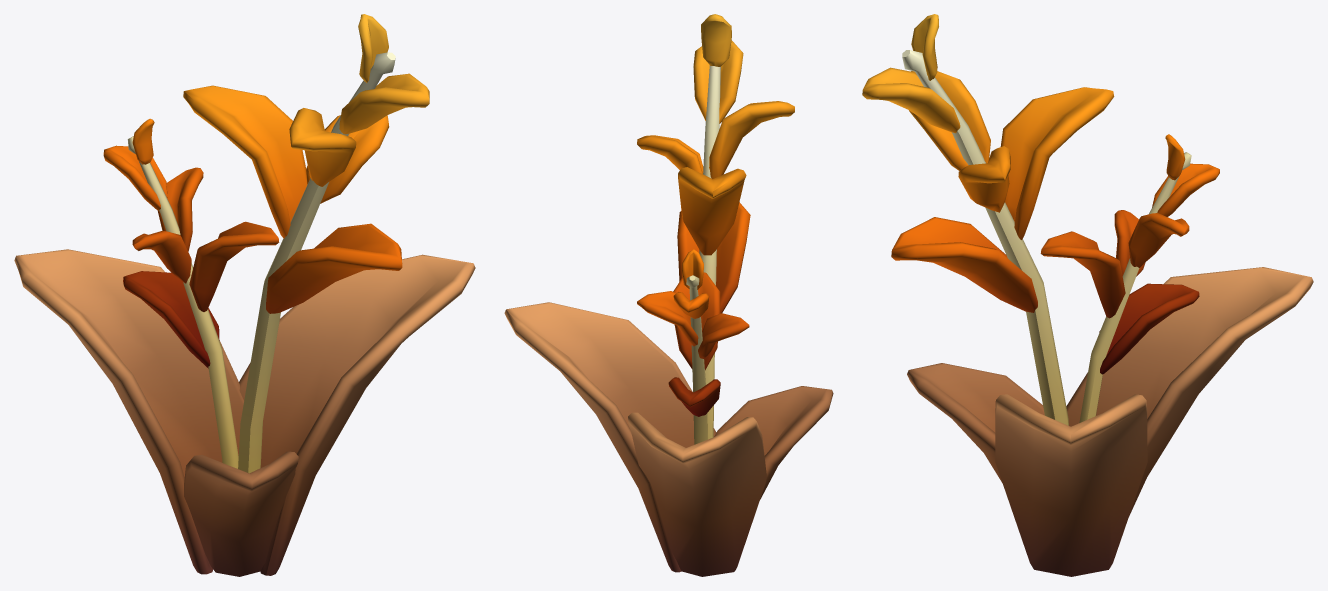
File: Plant41.fbx
3 renders of one model, left to right at view 1: azimuth 30°, elevation 25°; view 2: azimuth 150°, elevation 25°; view 3: azimuth 270°, elevation 25°, orthographic. The views are drawn at different scales.
Visible parts, largest first — view 1: Plant.055_Material.001_0; view 2: Plant.055_Material.001_0; view 3: Plant.055_Material.001_0.
Boxes of the visible parts, box(x1,y1,x2,y2) form: Plant.055_Material.001_0: box(14, 14, 475, 576); Plant.055_Material.001_0: box(504, 14, 833, 576); Plant.055_Material.001_0: box(862, 14, 1313, 576).
Bounding box in the file's own units: 35.45 × 56.18 × 40.07.
